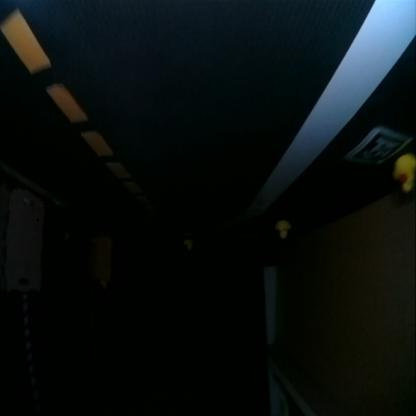Duckie: (394, 155, 414, 193), (274, 221, 290, 241), (182, 240, 192, 251), (100, 282, 106, 290), (64, 234, 70, 242)
QR code: (348, 129, 414, 167)
